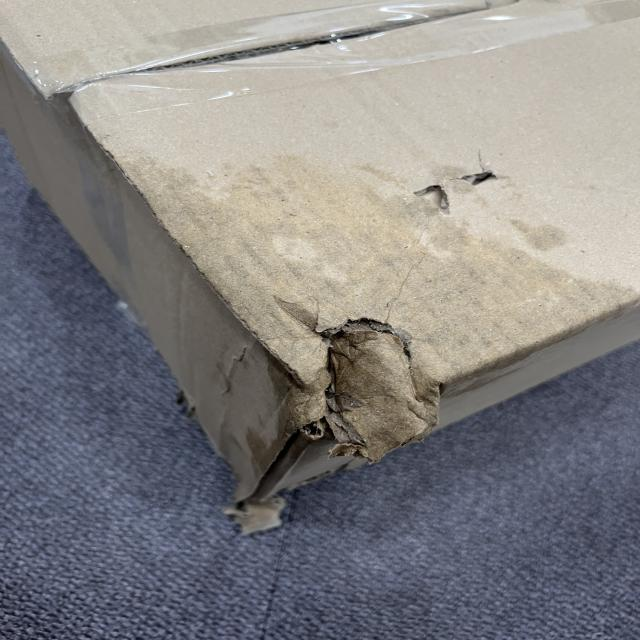wet: (184, 182, 618, 432)
